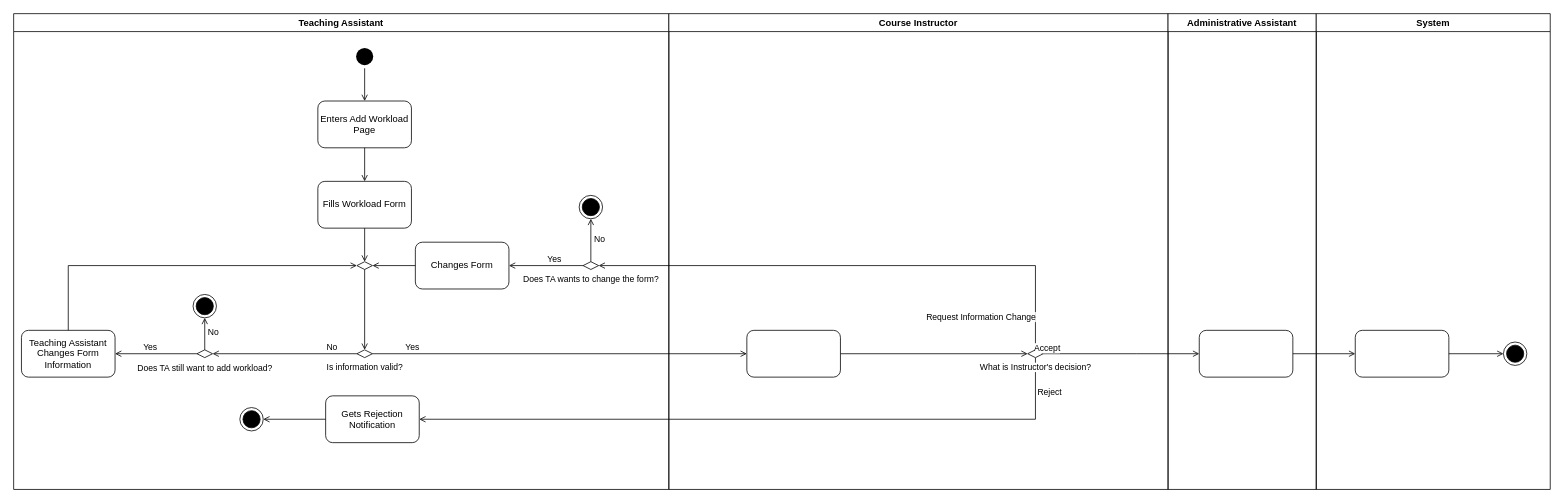
The diagram is 1564 pixels wide and 503 high, and some of its shapes have lost their labels. Here are the shapes that lost their labels. From the top down, the centre of each, then its label:
(x=793, y=353): Evaluates Workload Form
(x=1245, y=353): Gets Workload Acceptance Notification
(x=1401, y=353): Adds Workload to the Workloads section of TA
